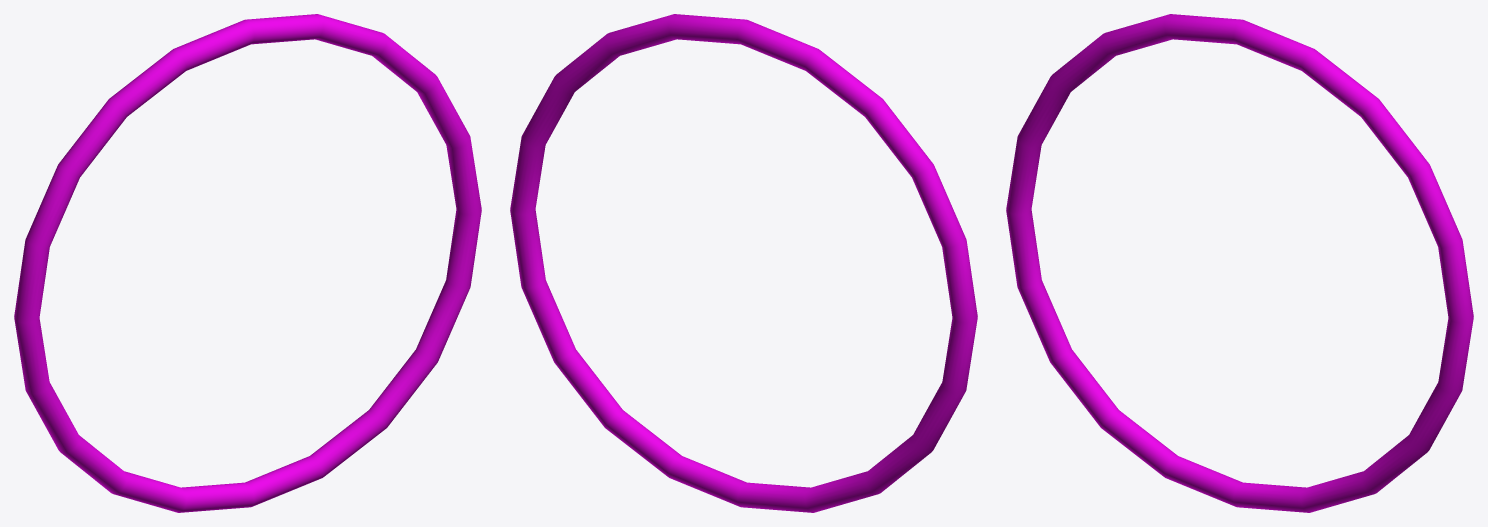
Rendered from CharaEggRing.fbx.
3 renders of one model, left to right at view 1: azimuth 30°, elevation 25°; view 2: azimuth 150°, elevation 25°; view 3: azimuth 330°, elevation 25°, orthographic.
Parts seen in each view (by area): view 1: pTorus1; view 2: pTorus1; view 3: pTorus1.
Part boxes in pixels (x1,y1,x2,y2): pTorus1: (14,14,481,512); pTorus1: (510,14,977,512); pTorus1: (1006,14,1473,512).
Bounding box in the file's own units: 2.1 × 2.1 × 0.1.
